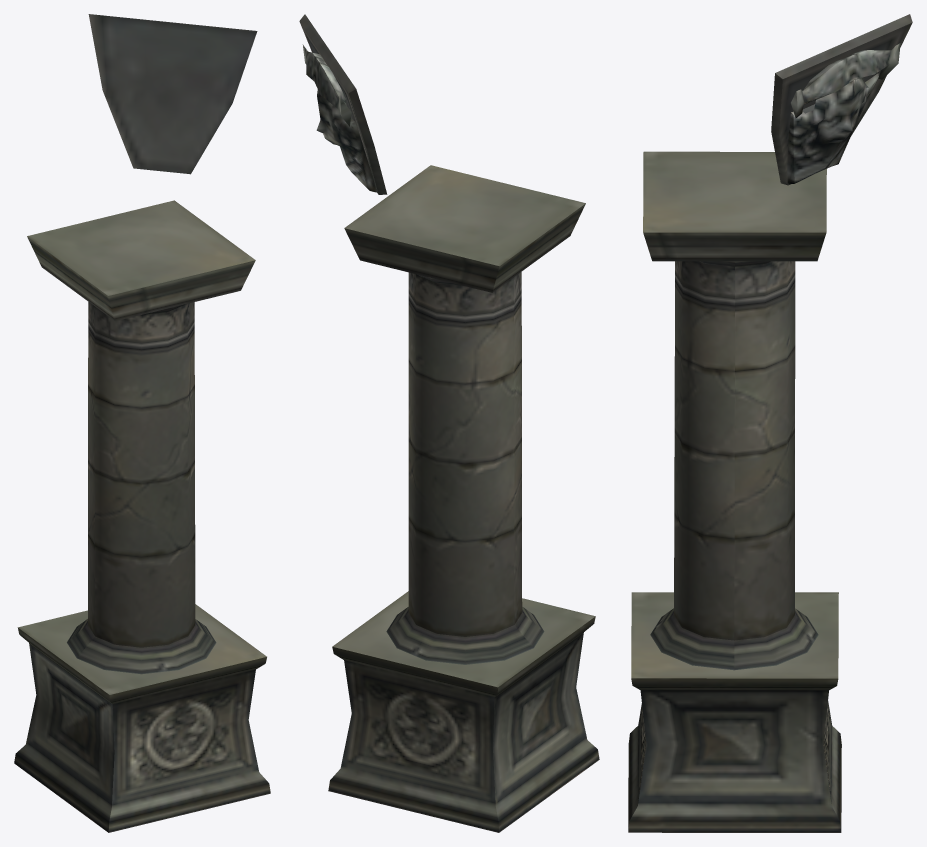
The picture shows the model from 3 angles, left to right: view 1: azimuth 30°, elevation 25°; view 2: azimuth 150°, elevation 25°; view 3: azimuth 270°, elevation 25°; orthographic projection. The views are drawn at different scales.
Parts seen in each view (by area): view 1: DN_1_4_dt01_d04; view 2: DN_1_4_dt01_d04; view 3: DN_1_4_dt01_d04.
Part boxes in pixels (x1,y1,x2,y2): DN_1_4_dt01_d04: (14,14,270,832); DN_1_4_dt01_d04: (299,14,599,832); DN_1_4_dt01_d04: (628,14,912,832).
Size of the model in its own units: 192 by 598 by 196.
